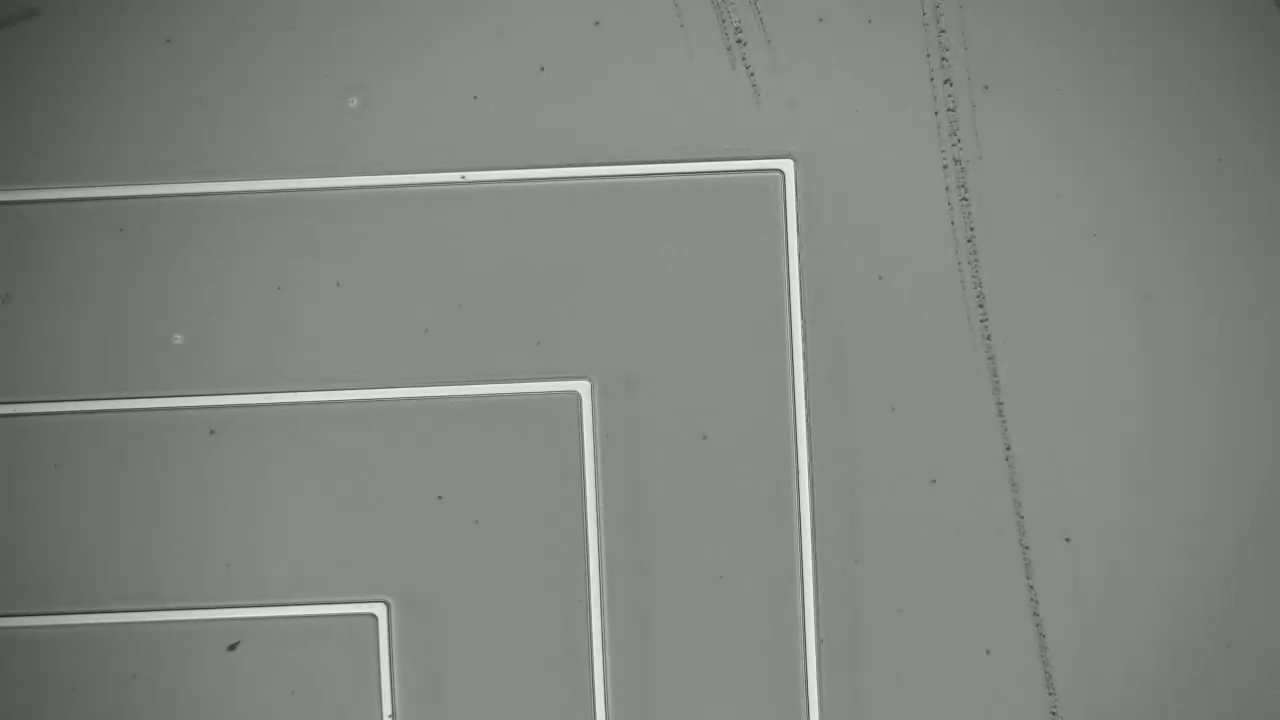scratch: (923, 2, 1068, 720), (698, 1, 812, 127)
